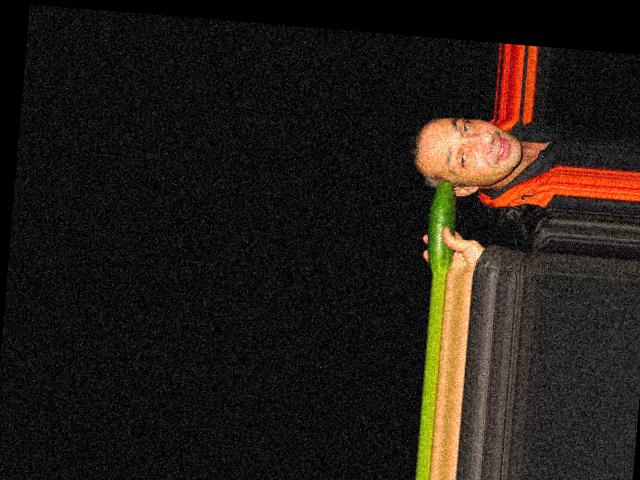cucumber: (424, 178, 459, 274)
